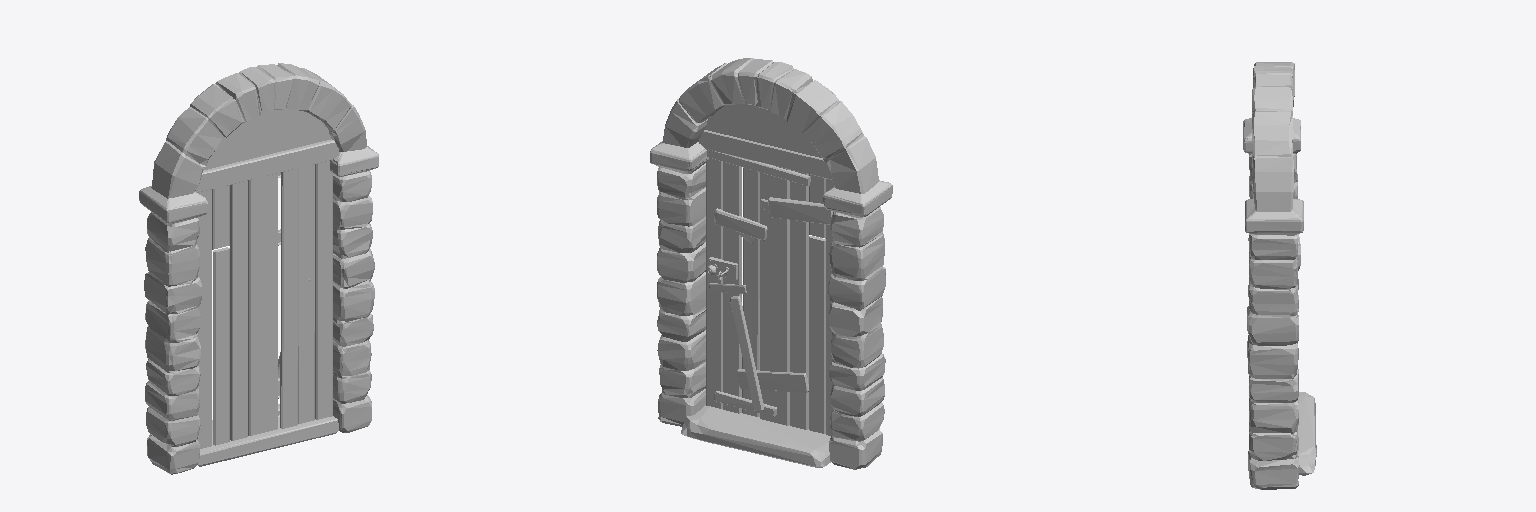
Rendered from SM_Door.obj.
The picture shows the model from 3 angles: view 1: azimuth 30°, elevation 25°; view 2: azimuth 150°, elevation 25°; view 3: azimuth 270°, elevation 25°; orthographic projection.
Parts seen in each view (by area): view 1: SM_Door; view 2: SM_Door; view 3: SM_Door.
Part boxes in pixels (x1,y1,x2,y2): SM_Door: (139, 63, 378, 474); SM_Door: (650, 58, 892, 469); SM_Door: (1243, 62, 1316, 489).
Size of the model in its own units: 1.34 by 2.21 by 0.3965.